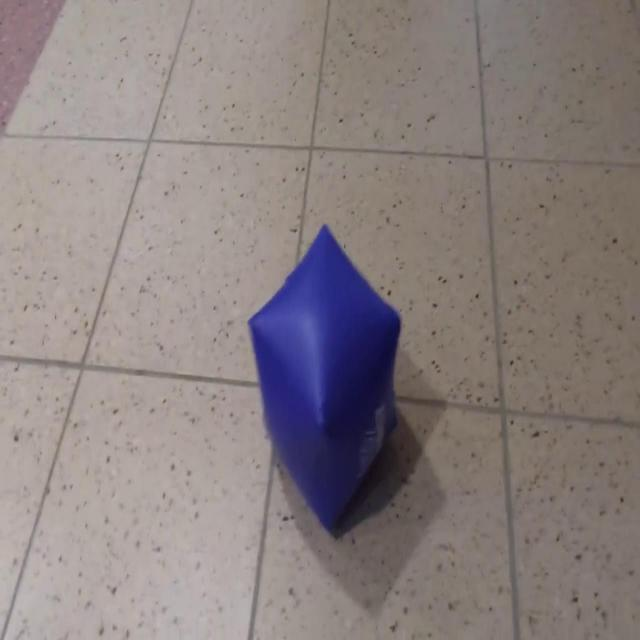frc_cube: (248, 227, 402, 525)
